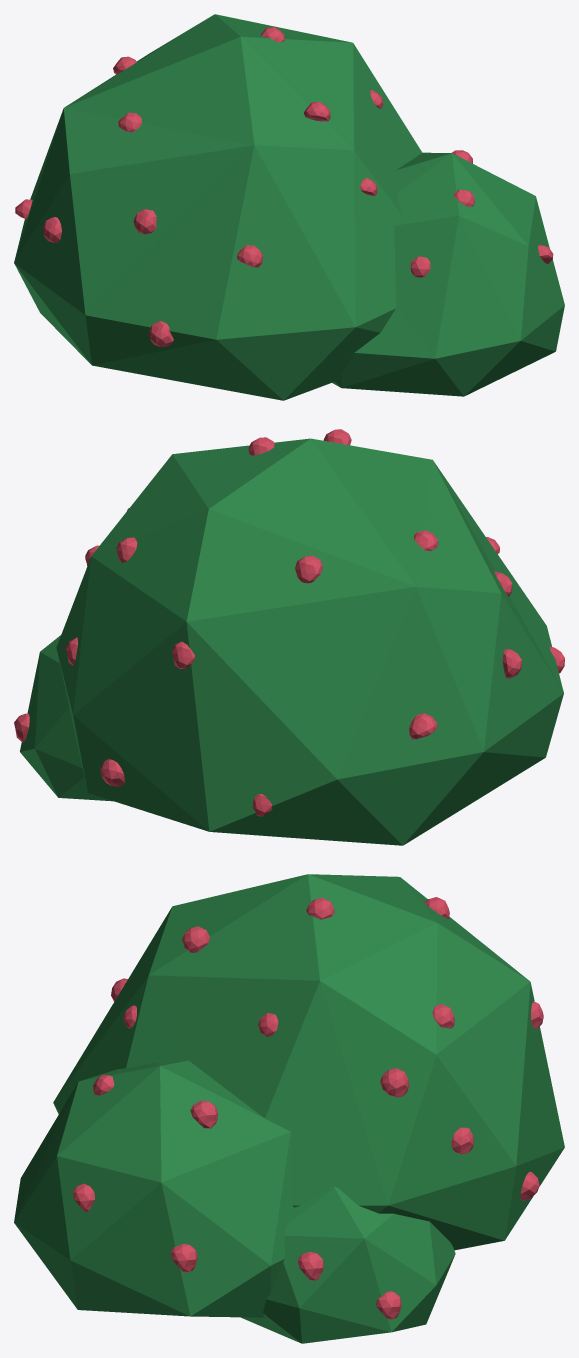
Rendered from Strawberry Bush.fbx.
The picture shows the model from 3 angles, top to bottom: view 1: azimuth 30°, elevation 25°; view 2: azimuth 150°, elevation 25°; view 3: azimuth 270°, elevation 25°; orthographic projection. The views are drawn at different scales.
Parts seen in each view (by area): view 1: Bush2, Bush1, Berry.021, Berry.020; view 2: Bush2, Bush3, Berry.007, Berry.008, Berry.019; view 3: Bush2, Bush1, Bush3, Berry.002, Berry.010, Berry.023.
Part boxes in pixels (x1=…): Bush2: x1=14, y1=14, x2=422, y2=400; Bush1: x1=332, y1=152, x2=564, y2=396; Berry.021: x1=149, y1=321, x2=173, y2=347; Berry.020: x1=133, y1=209, x2=156, y2=234; Bush2: x1=56, y1=438, x2=563, y2=845; Bush3: x1=20, y1=635, x2=112, y2=801; Berry.007: x1=295, y1=555, x2=322, y2=583; Berry.008: x1=409, y1=713, x2=437, y2=739; Berry.019: x1=100, y1=759, x2=124, y2=787; Bush2: x1=53, y1=874, x2=564, y2=1250; Bush1: x1=14, y1=1060, x2=293, y2=1317; Bush3: x1=241, y1=1186, x2=455, y2=1343; Berry.002: x1=380, y1=1068, x2=409, y2=1097; Berry.010: x1=170, y1=1244, x2=197, y2=1272; Berry.023: x1=190, y1=1100, x2=217, y2=1128.
Size of the model in its own units: 567 by 396 by 553.
